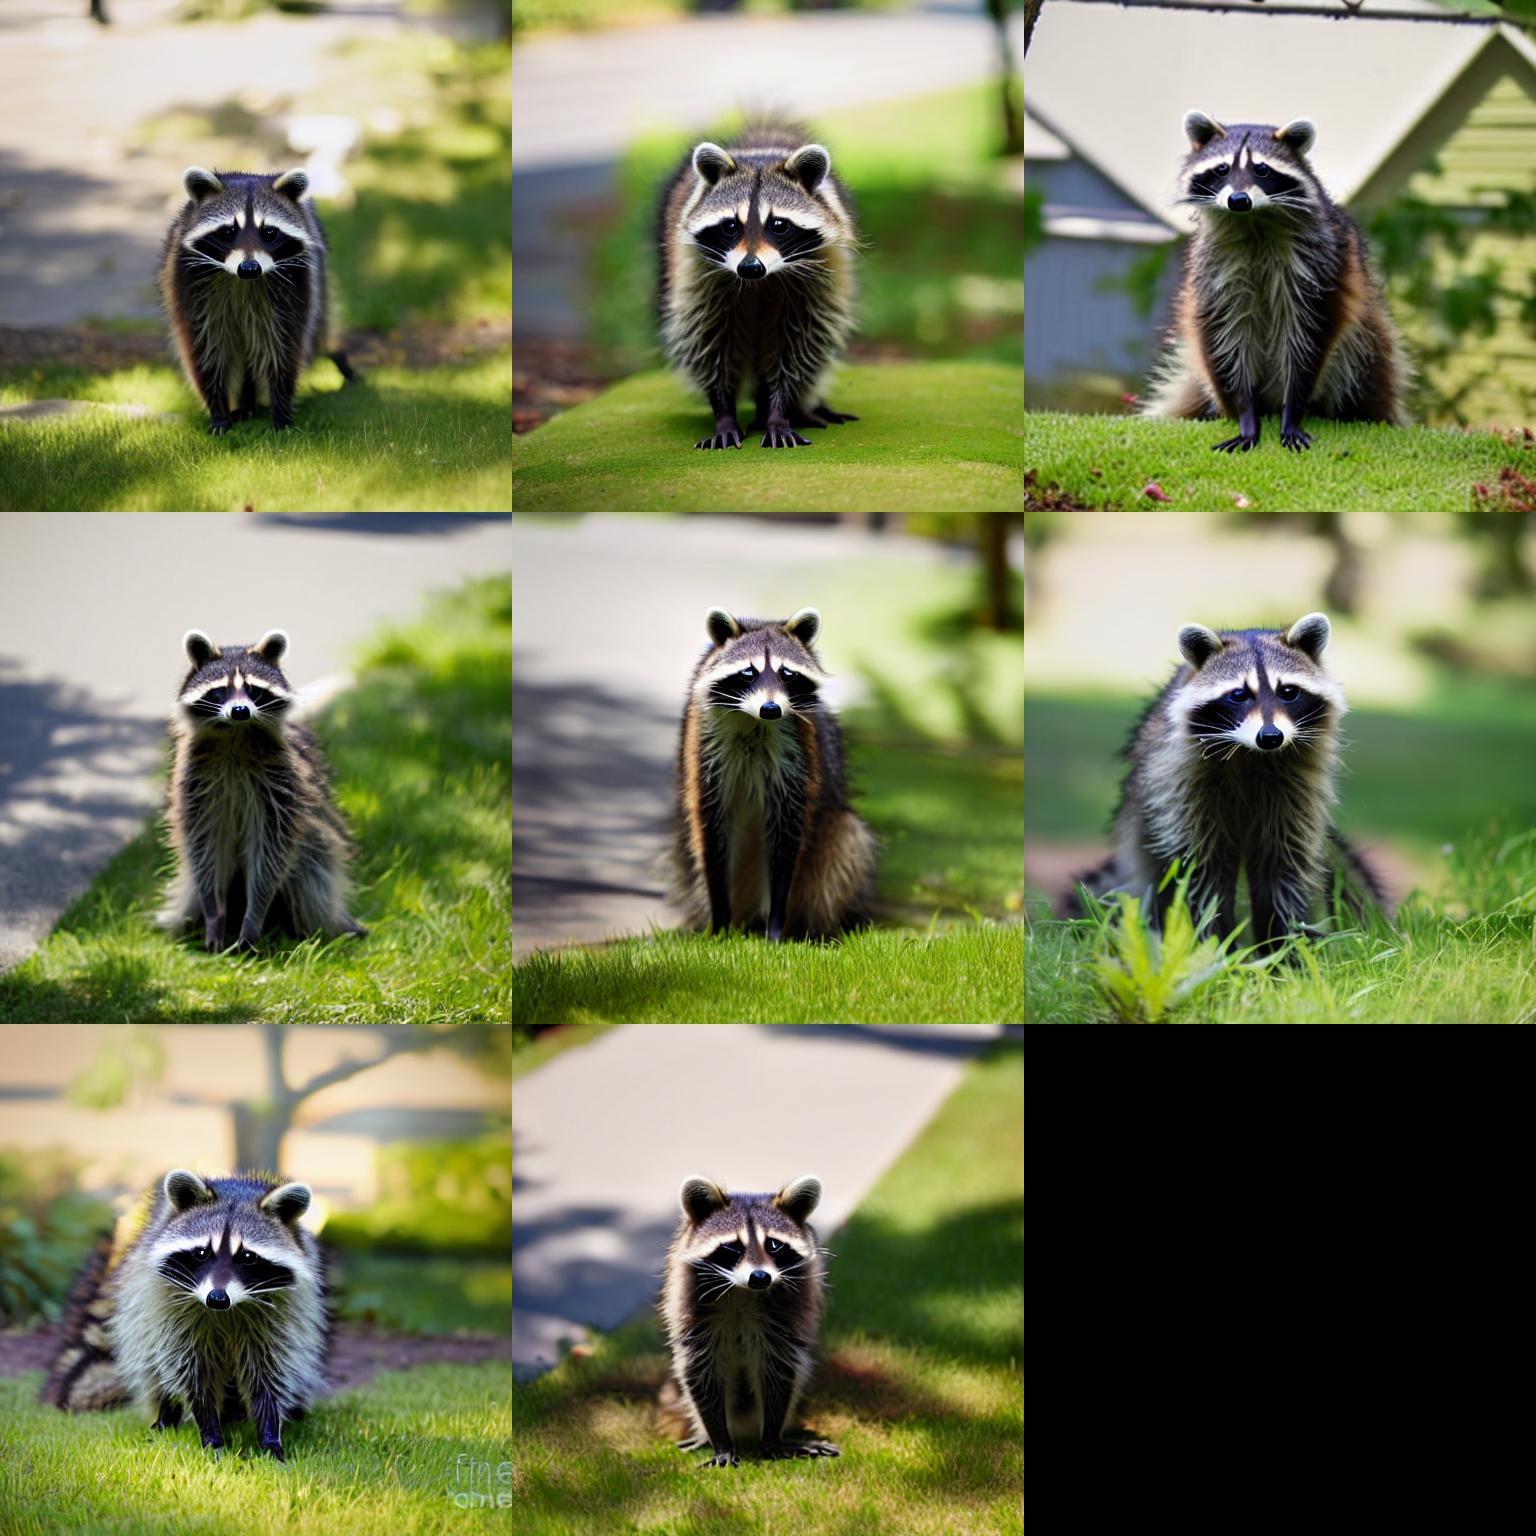raccoon: (1099, 610, 1367, 911), (1162, 105, 1400, 415), (667, 598, 875, 917), (646, 127, 865, 419), (89, 1167, 336, 1419), (166, 622, 350, 933), (152, 151, 339, 415), (653, 1167, 840, 1428)
